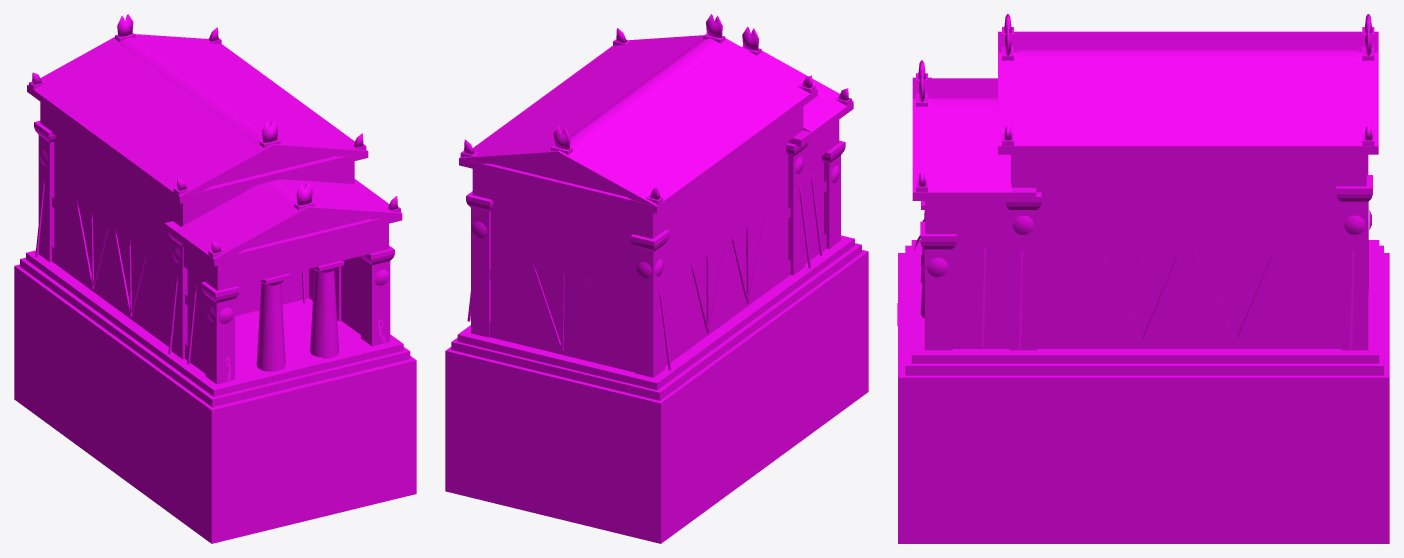
File: spart_syssiton_2.glb
The picture shows the model from 3 angles, left to right: view 1: azimuth 30°, elevation 25°; view 2: azimuth 150°, elevation 25°; view 3: azimuth 270°, elevation 25°; orthographic projection. The views are drawn at different scales.
Parts seen in each view (by area): view 1: Cube_024-mesh; view 2: Cube_024-mesh; view 3: Cube_024-mesh.
Part boxes in pixels (x1,y1,x2,y2): Cube_024-mesh: (14, 14, 416, 543); Cube_024-mesh: (445, 14, 868, 543); Cube_024-mesh: (897, 14, 1389, 543).
Bounding box in the file's own units: 14.62 × 24.93 × 24.43.
